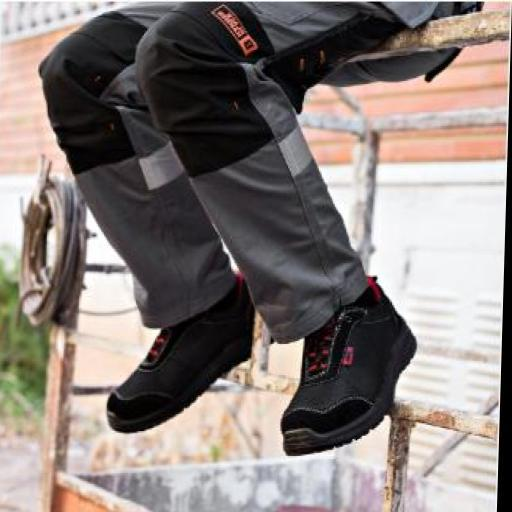safety_boots: (83, 320, 221, 449), (268, 336, 382, 463)
